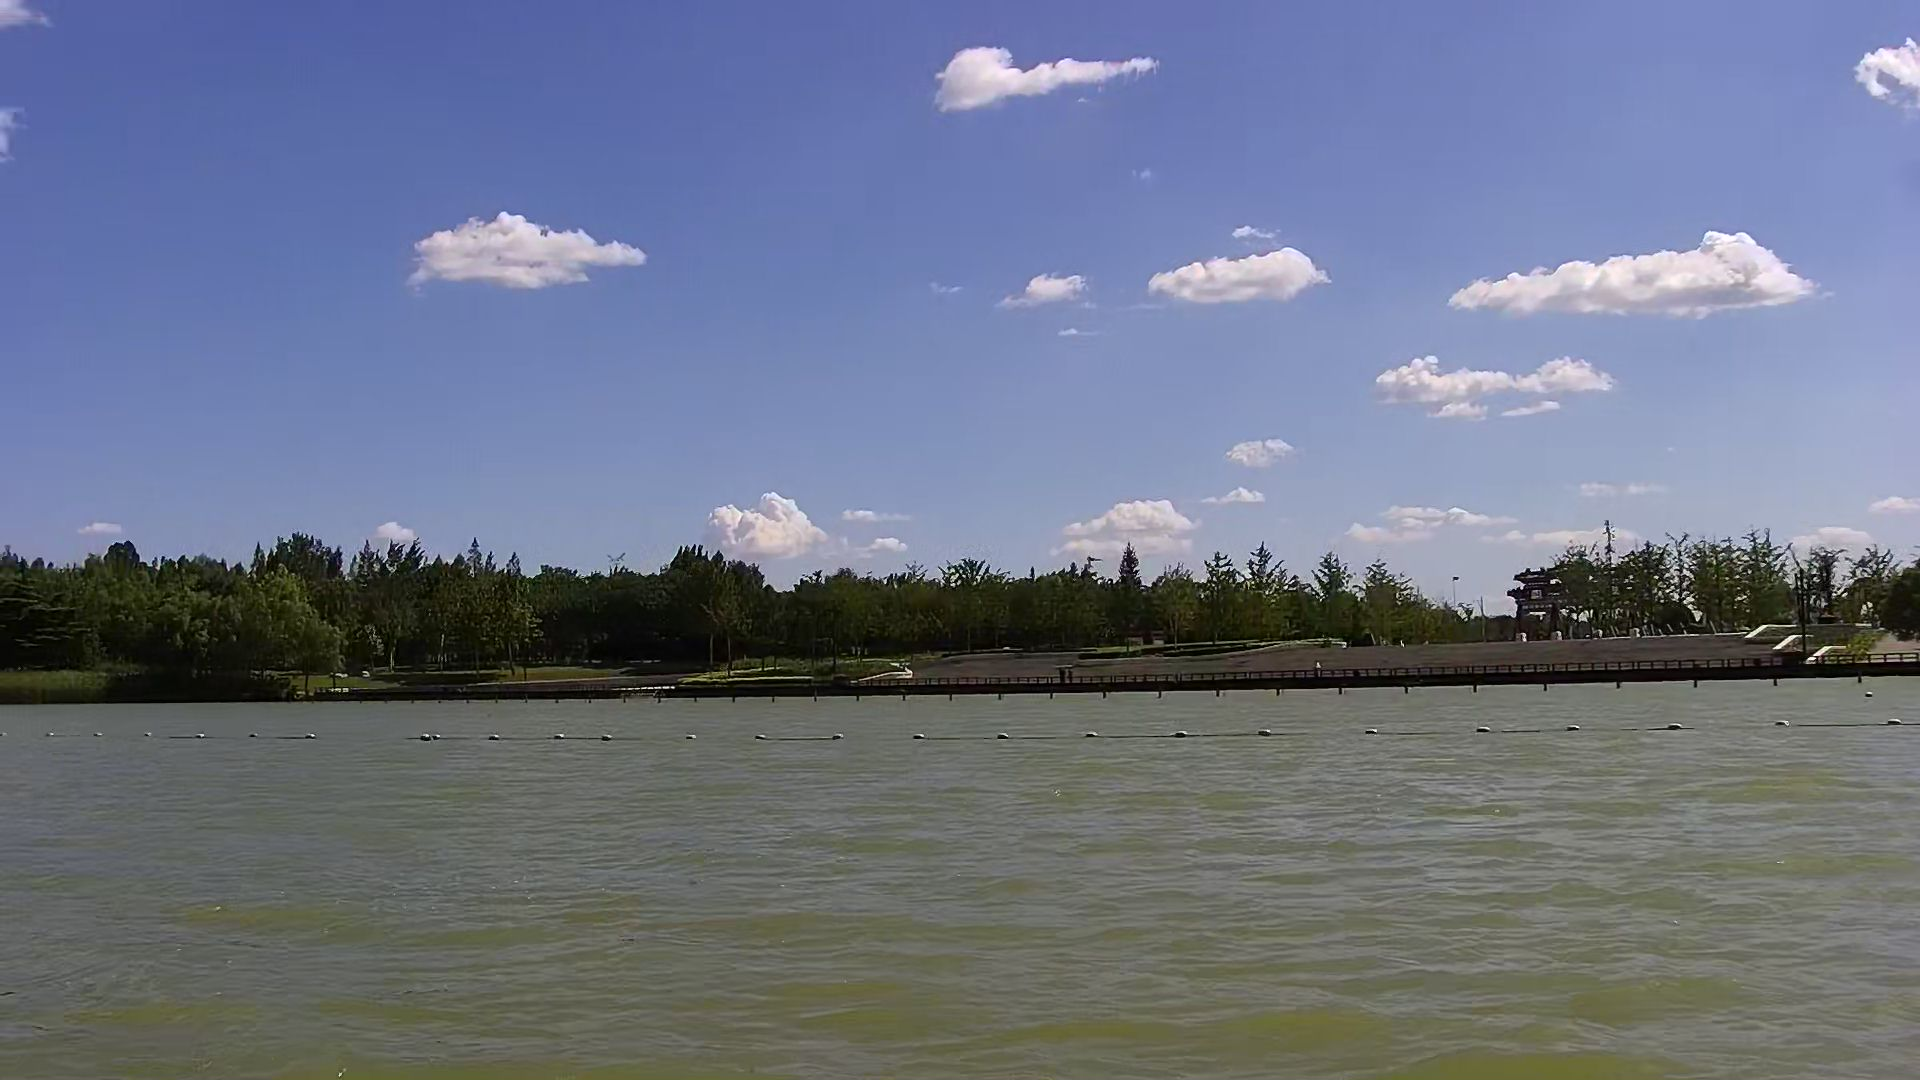ball: (1655, 708, 1691, 741), (1166, 723, 1189, 752), (592, 728, 615, 752), (911, 721, 928, 752), (828, 731, 849, 745), (1567, 720, 1582, 737), (1258, 723, 1273, 740), (1476, 723, 1491, 737), (996, 731, 1010, 745)
harbor: (1015, 632, 1920, 676)
